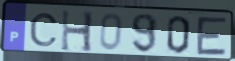0: (97, 12, 125, 53), (165, 14, 192, 56)
9: (131, 12, 160, 55)
C: (28, 12, 60, 48)
E: (195, 15, 229, 58)
H: (60, 8, 96, 54)
